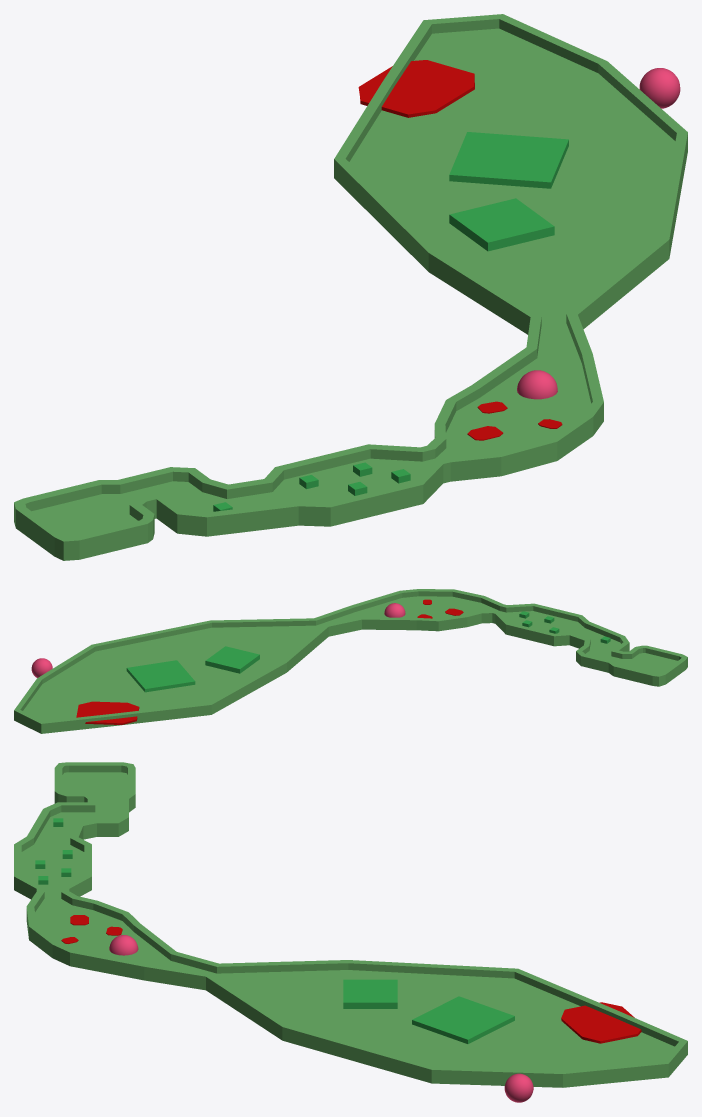
File: Design_LevelElements.fbx
The picture shows the model from 3 angles, top to bottom: view 1: azimuth 30°, elevation 25°; view 2: azimuth 150°, elevation 25°; view 3: azimuth 270°, elevation 25°; orthographic projection. The views are drawn at different scales.
Parts seen in each view (by area): view 1: Enironment, Obsticle, Slick, MovinOobsticle_2, MovinOobsticle_1; view 2: Enironment, Obsticle, Slick, MovinOobsticle_2, MovinOobsticle_1; view 3: Enironment, Obsticle, Slick, MovinOobsticle_2.
Part boxes in pixels (left/top/right/bottom): Enironment: left=14, top=14, right=687, bottom=560; Obsticle: left=213, top=132, right=568, bottom=511; Slick: left=358, top=60, right=562, bottom=440; MovinOobsticle_2: left=639, top=68, right=680, bottom=108; MovinOobsticle_1: left=517, top=370, right=557, bottom=399; Enironment: left=14, top=589, right=687, bottom=733; Obsticle: left=126, top=611, right=610, bottom=692; Slick: left=76, top=599, right=463, bottom=724; MovinOobsticle_2: left=31, top=658, right=52, bottom=677; MovinOobsticle_1: left=384, top=603, right=405, bottom=617; Enironment: left=14, top=762, right=687, bottom=1087; Obsticle: left=35, top=818, right=514, bottom=1043; Slick: left=61, top=915, right=641, bottom=1043; MovinOobsticle_2: left=504, top=1073, right=533, bottom=1102.
Size of the model in its own units: 46.96 by 1.77 by 41.11.
